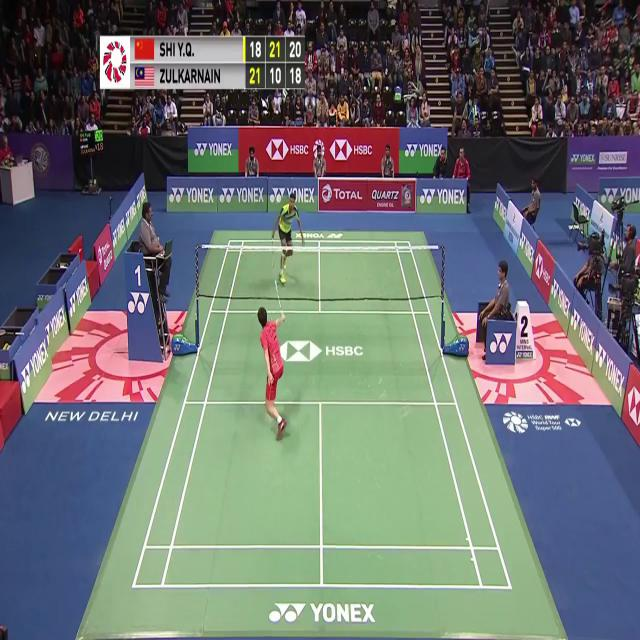Shuttlecock: (274, 192, 281, 204)
